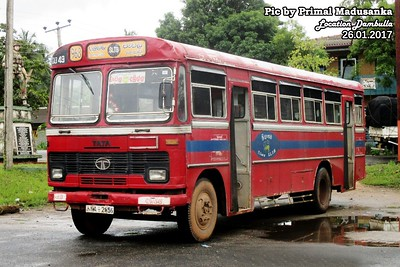bus: (47, 36, 366, 241)
